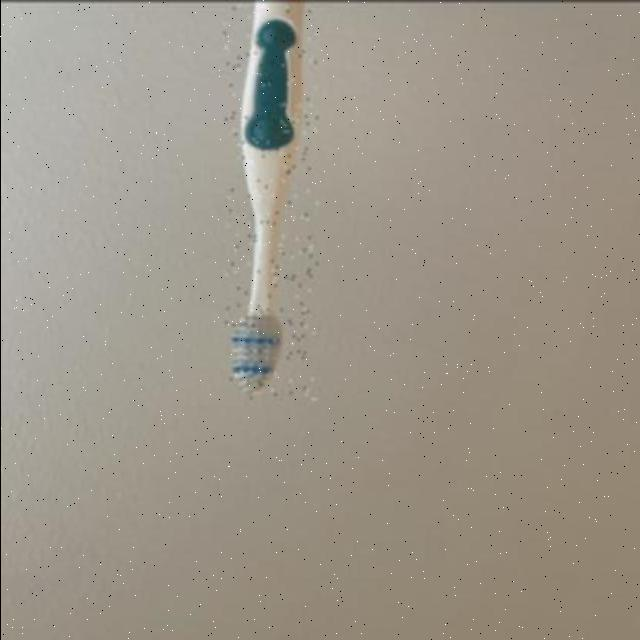toothbrush: (224, 1, 316, 402)
